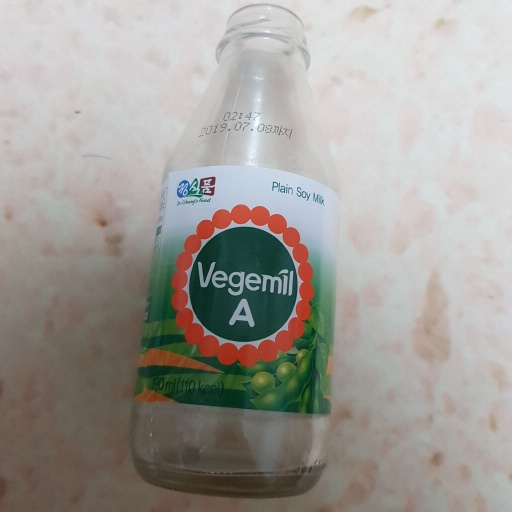Glass_4: (127, 1, 343, 492)
